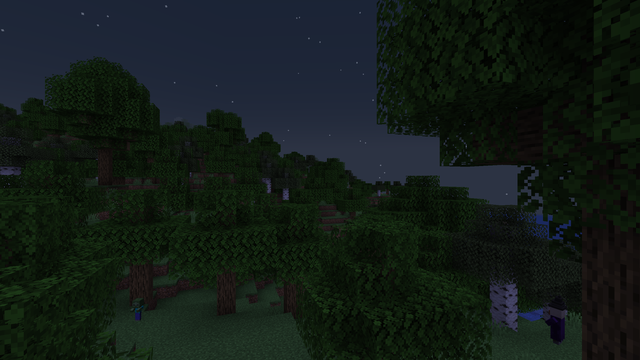sorcieres: (547, 302, 567, 346)
zombies: (134, 300, 142, 321)
